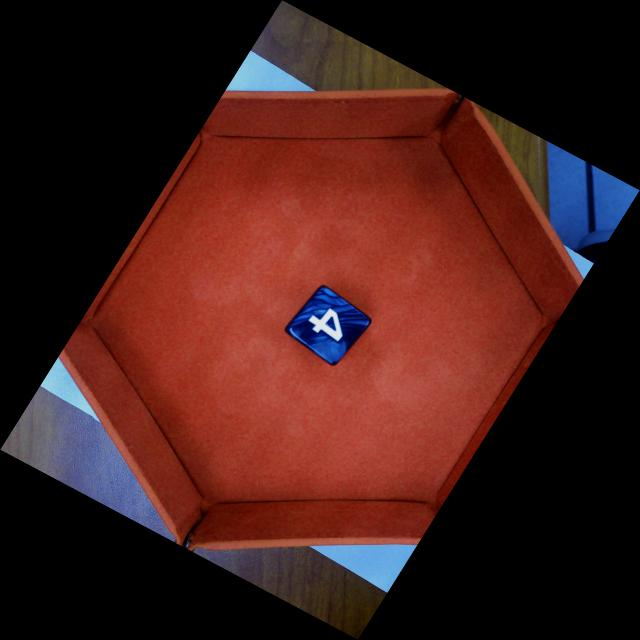dice: (285, 287, 376, 368)
